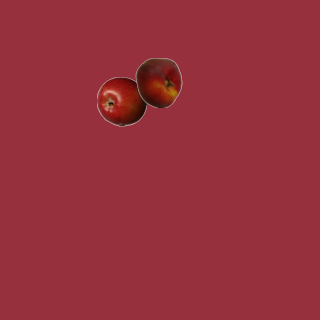Apple Braeburn: (96, 76, 146, 126)
Nectarine Flat: (133, 57, 183, 107)
